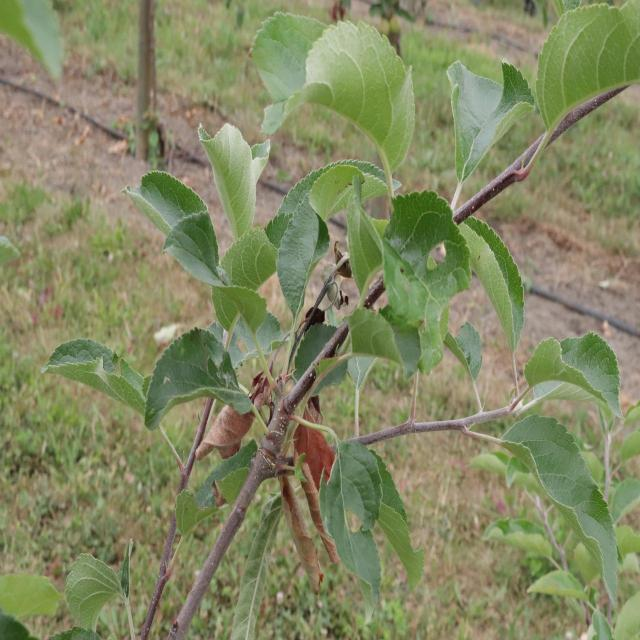-FireBlight-: (284, 467, 326, 585), (292, 404, 338, 490), (202, 394, 262, 455)
